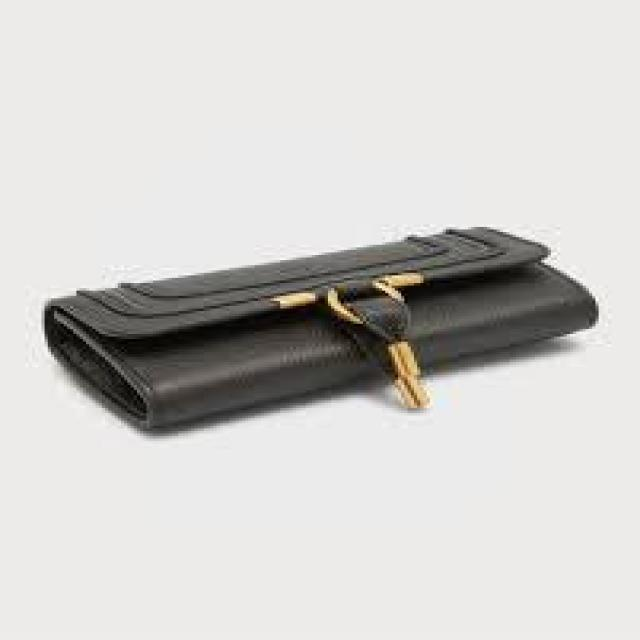cuzdan: (44, 231, 640, 422)
